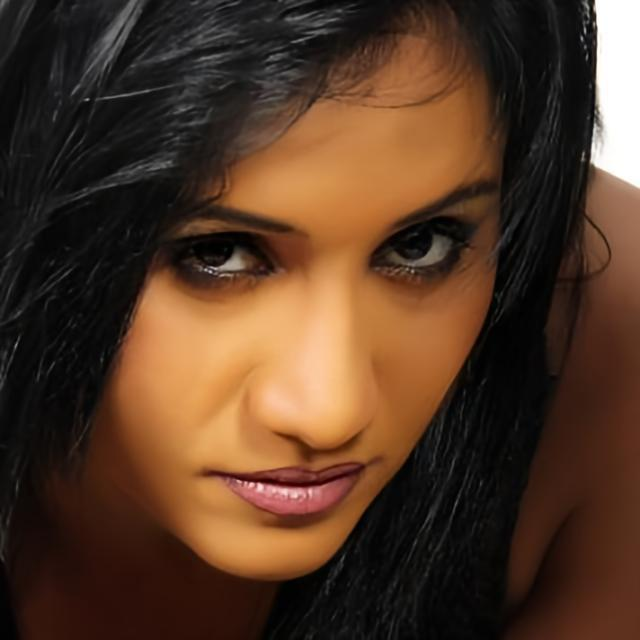content: (85, 0, 507, 582)
